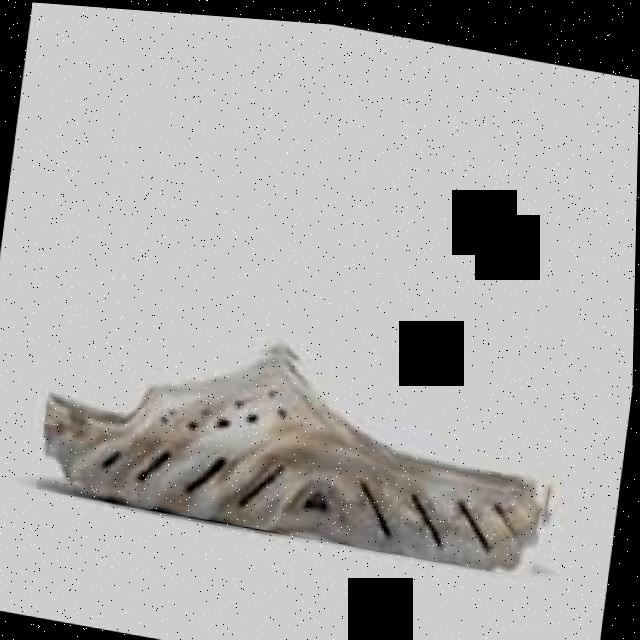shoe: (46, 350, 547, 563)
